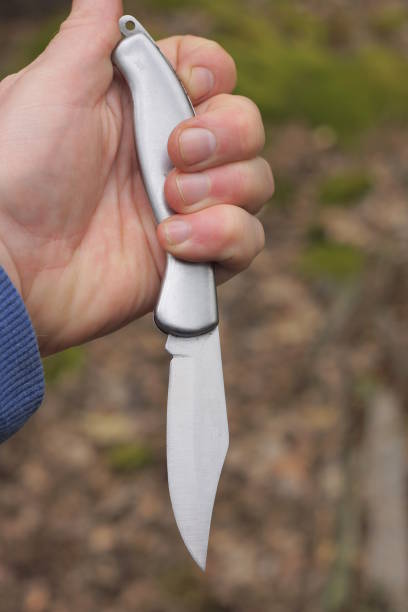knife: (107, 12, 231, 574)
